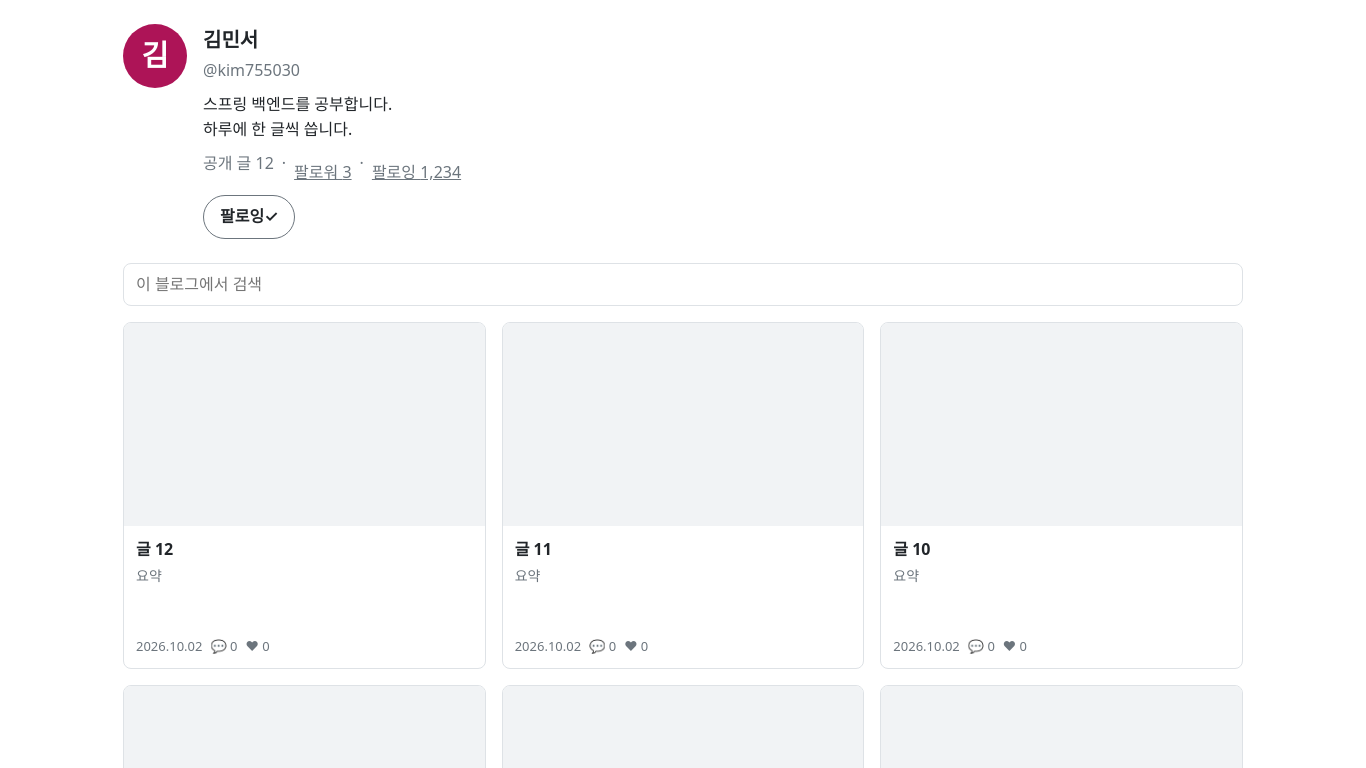
it: BlogPage 태그 필터 › 팔로우 (010 T024·T037) › 팔로우 중이면 [팔로잉 ✓]로 시작하고 누르면 팔로워 수가 바로 줄어든다
The width and height of the screenshot is (1366, 768).
Click the button: (249, 217) x1=203 y1=195 x2=295 y2=239
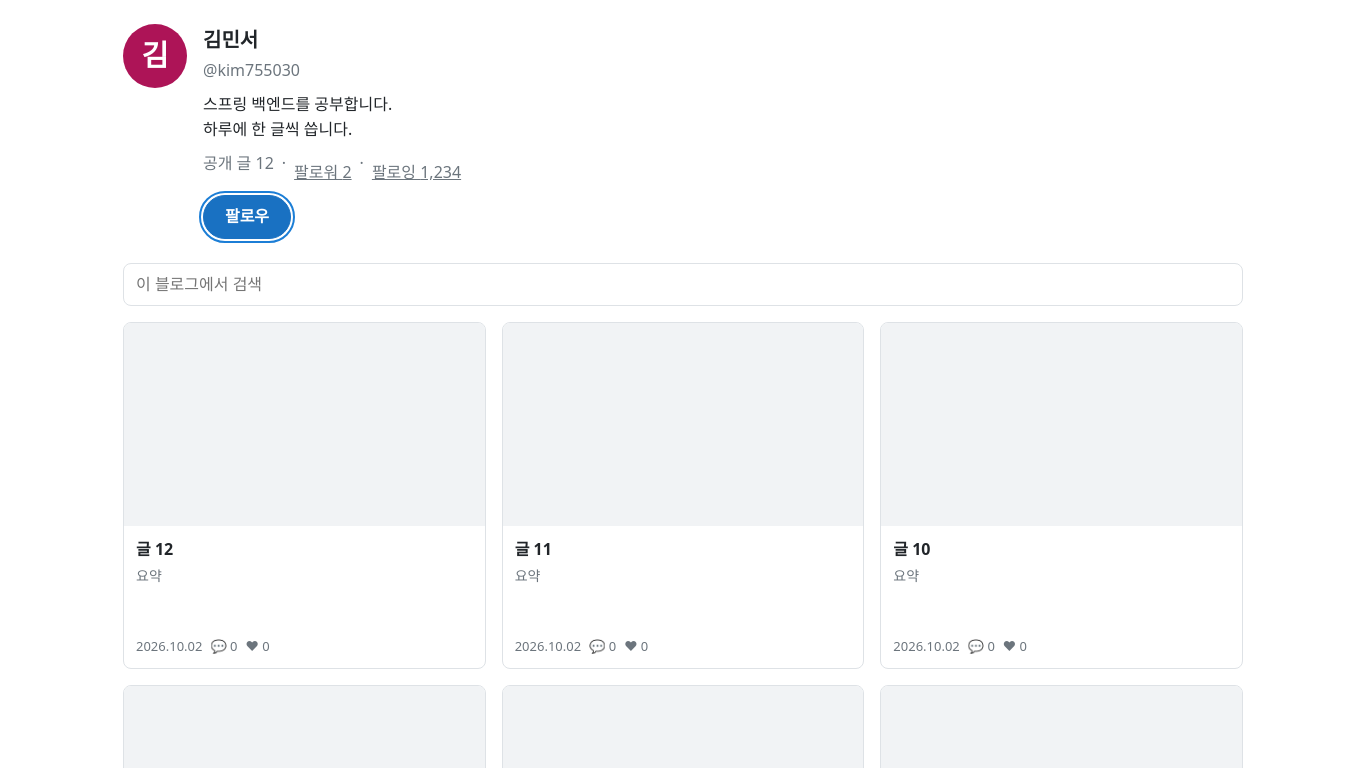
Now the element with test id "follow-counts" shows "팔로워 2", box x1=203 y1=152 x2=461 y2=183
